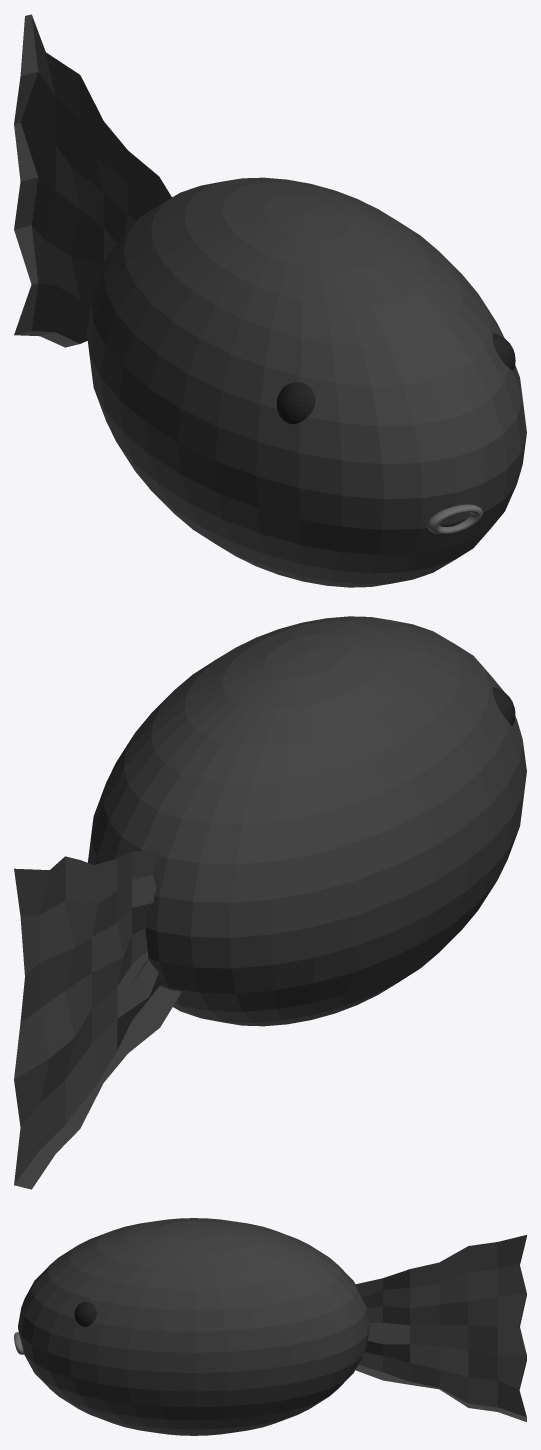
Rendered from Sphenorh.fbx.
3 views of the same model, one above another, from view 1: azimuth 30°, elevation 25°; view 2: azimuth 150°, elevation 25°; view 3: azimuth 270°, elevation 25° (orthographic). The views are drawn at different scales.
Visible parts, largest first — view 1: Sphere; view 2: Sphere; view 3: Sphere.
Part boxes in pixels (x1,y1,x2,y2): Sphere: (14, 14, 526, 587); Sphere: (14, 616, 526, 1189); Sphere: (14, 1218, 526, 1435).
Size of the model in its own units: 76.75 by 76.75 by 181.
Materials: 1 (1 with a texture image).
